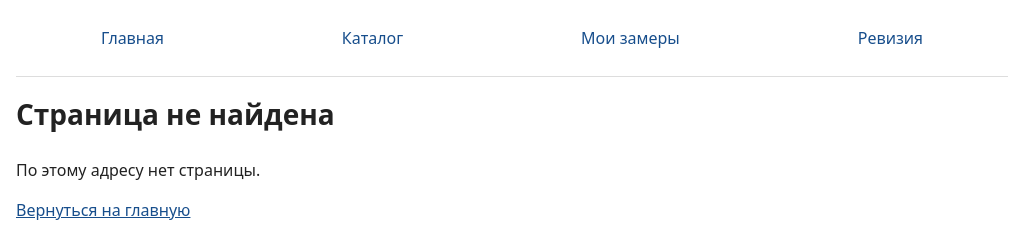
Scenario: application shell › returns to the home view from an unknown URL
The image size is (1025, 238).
Expected: the heading "Страница не найдена" is shown, top-left (16, 95), bottom-right (335, 133)
Click the link to "/" at (103,210), box top-left (16, 199), bottom-right (190, 221)
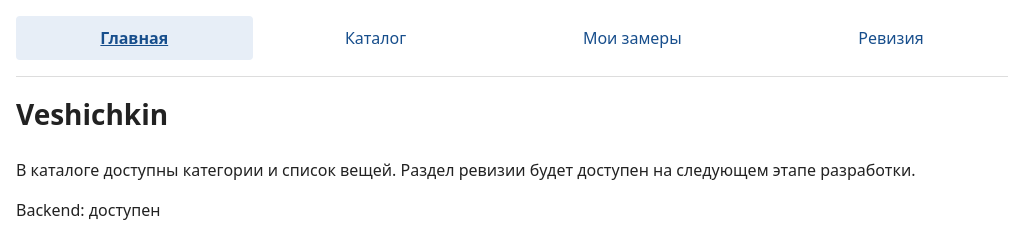
Expected: the heading "Veshichkin" is shown, top-left (16, 95), bottom-right (168, 133)
